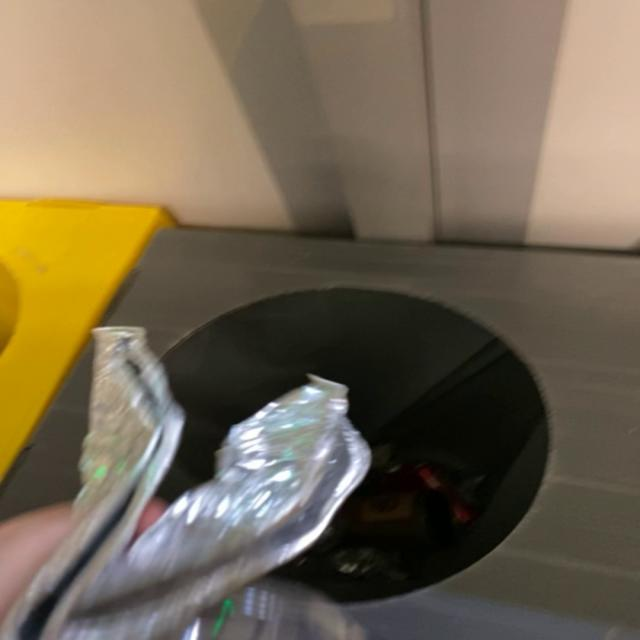bin: (103, 229, 639, 640), (1, 350, 89, 518)
metal: (1, 328, 370, 640)
